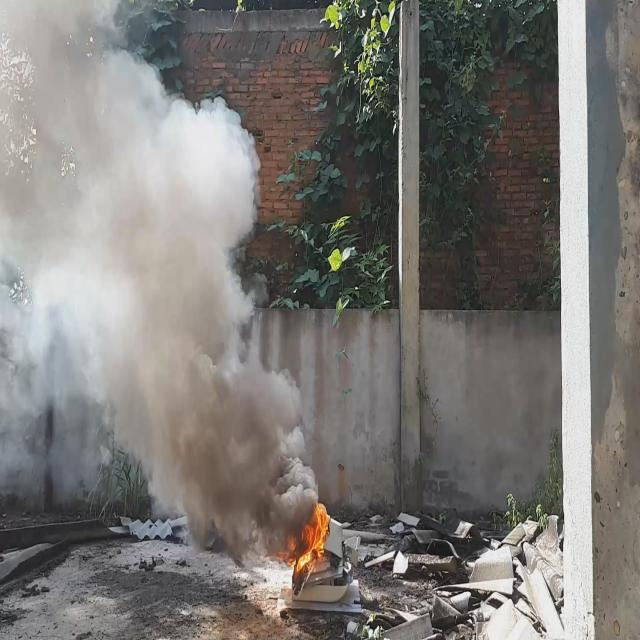Fire: (281, 497, 333, 575)
Smoke: (0, 0, 320, 563)
